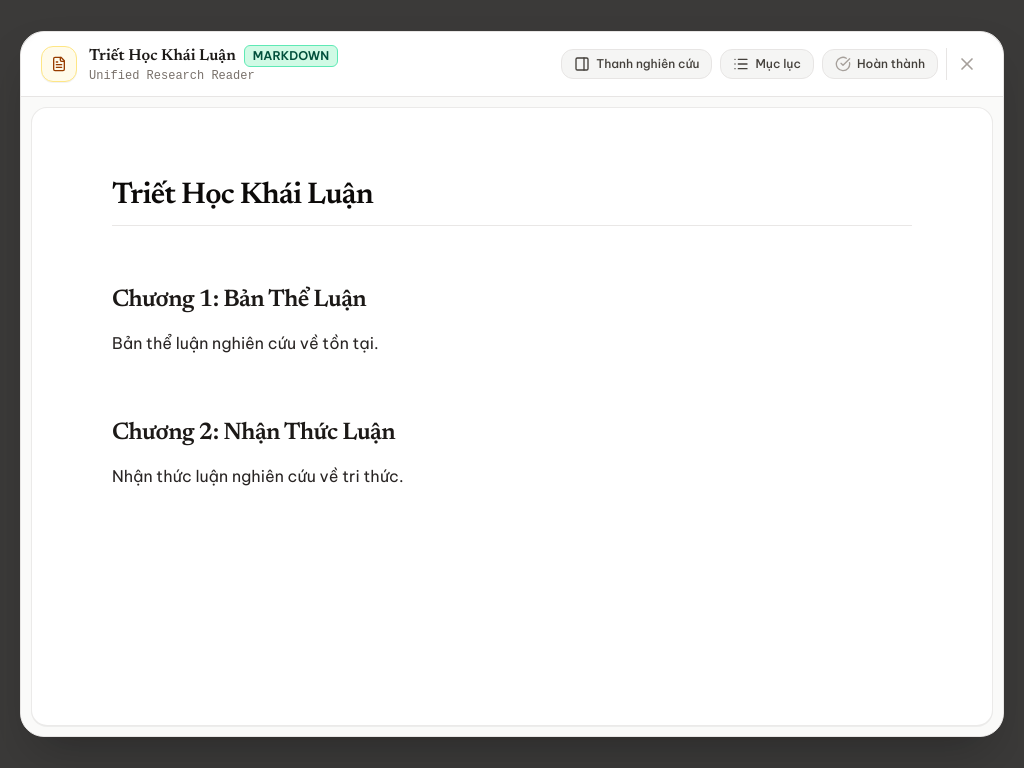
Scenario: Phase R3B: Reader Sidebar In-Reader Note Citation Jump › 3. Phase 21A: Citation Backlinks Explorer in ReaderSidebar Notes Tab › 3.1. renders backlinks subsection in Notes tab for notes citing active document
The width and height of the screenshot is (1024, 768).
Click the button with test id "reader-toggle-sidebar-btn". click: (637, 64)
box: [561,49,712,79]
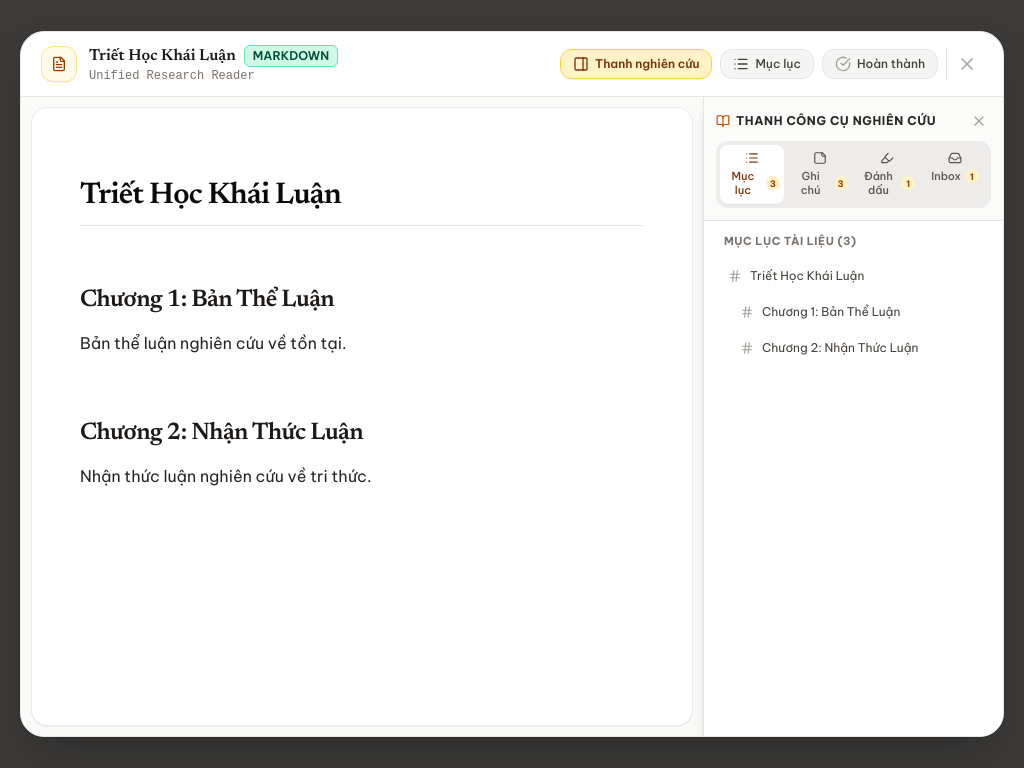
Click the tab with test id "sidebar-tab-notes". click: (820, 174)
box: [788,145,852,204]
(page scrolled)
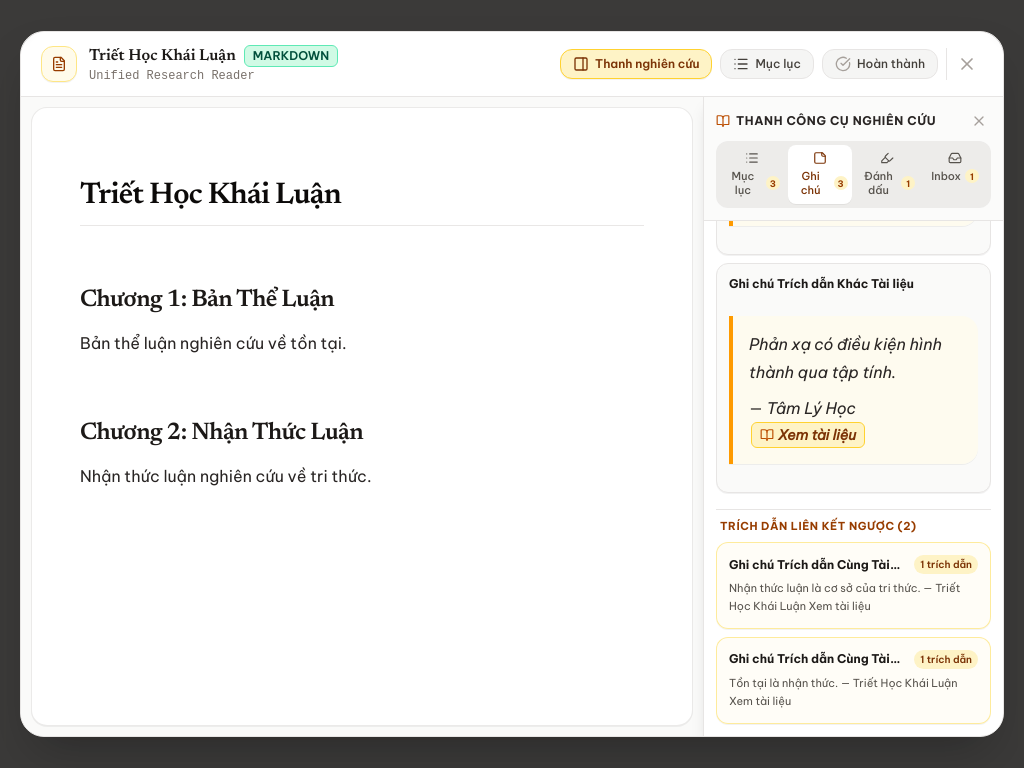
Now the element with test id "sidebar-backlinks-section" is shown, box [716,508,991,724]
Now the heading "Ghi chú Trích dẫn Cùng Tài liệu có Locator" is shown, box [729,556,906,572]
Now the heading "Ghi chú Trích dẫn Cùng Tài liệu không Locator" is shown, box [729,651,906,667]
